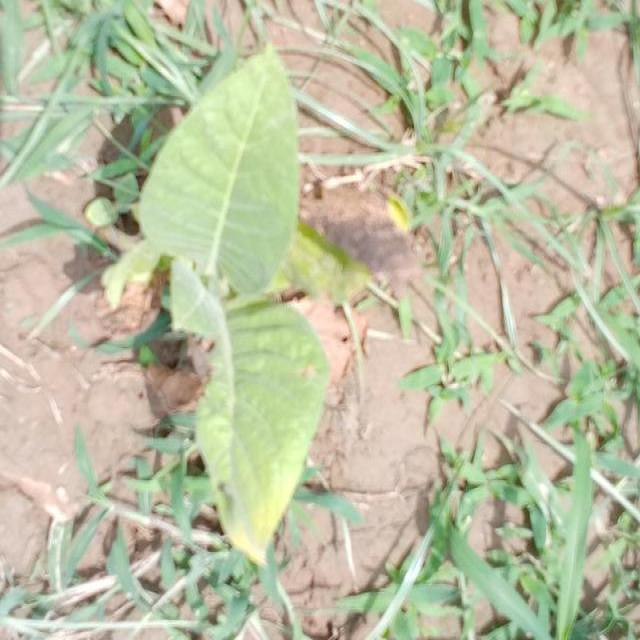crop: (146, 50, 332, 554)
